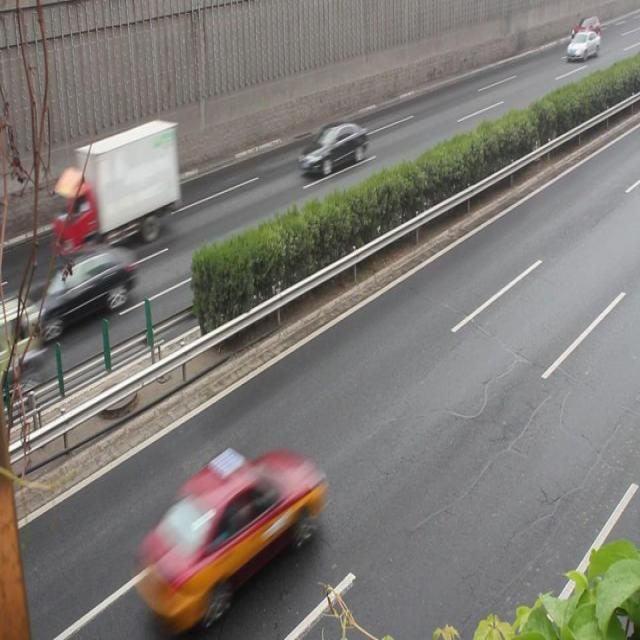bus: (50, 120, 179, 260)
car: (137, 454, 321, 604), (35, 248, 135, 336), (299, 119, 367, 180)
